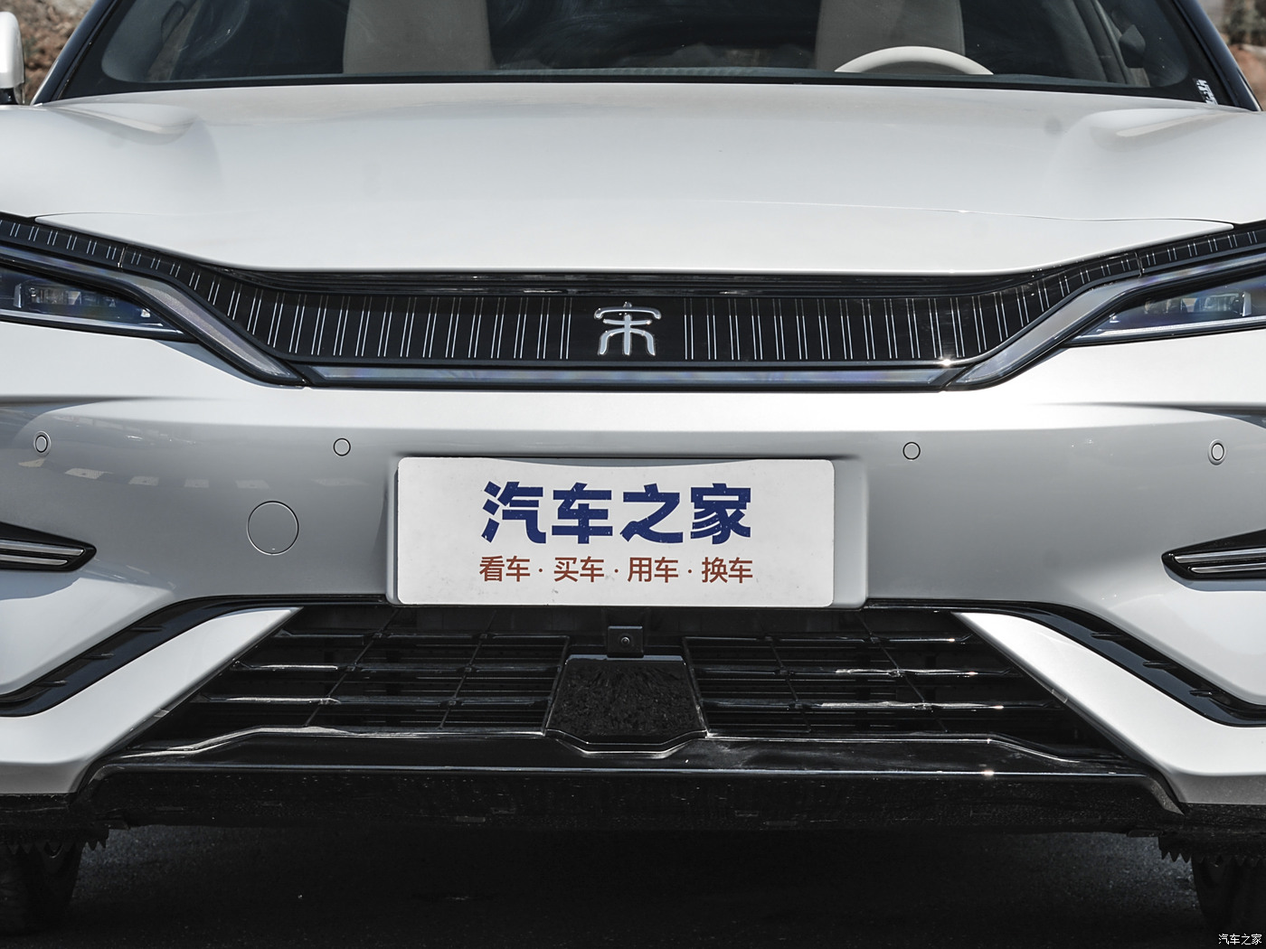BYD Song: (595, 303, 661, 354)
